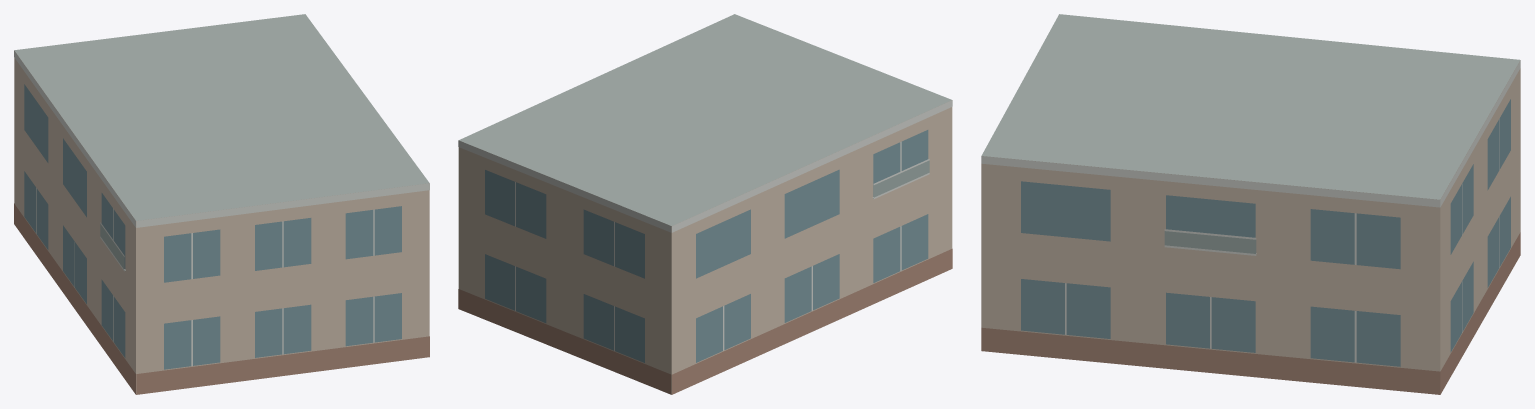
Rendered from survey-upis-32796724.glb.
3 views of the same model, side by side, from view 1: azimuth 30°, elevation 25°; view 2: azimuth 150°, elevation 25°; view 3: azimuth 270°, elevation 25° (orthographic). The views are drawn at different scales.
Visible parts, largest first — view 1: survey-upis-32796724.tmp; view 2: survey-upis-32796724.tmp; view 3: survey-upis-32796724.tmp.
Part boxes in pixels (x1,y1,x2,y2): survey-upis-32796724.tmp: (14,14,429,394); survey-upis-32796724.tmp: (458,14,952,394); survey-upis-32796724.tmp: (981,14,1520,394).
Bounding box in the file's own units: 12.46 × 6.1 × 15.29.
